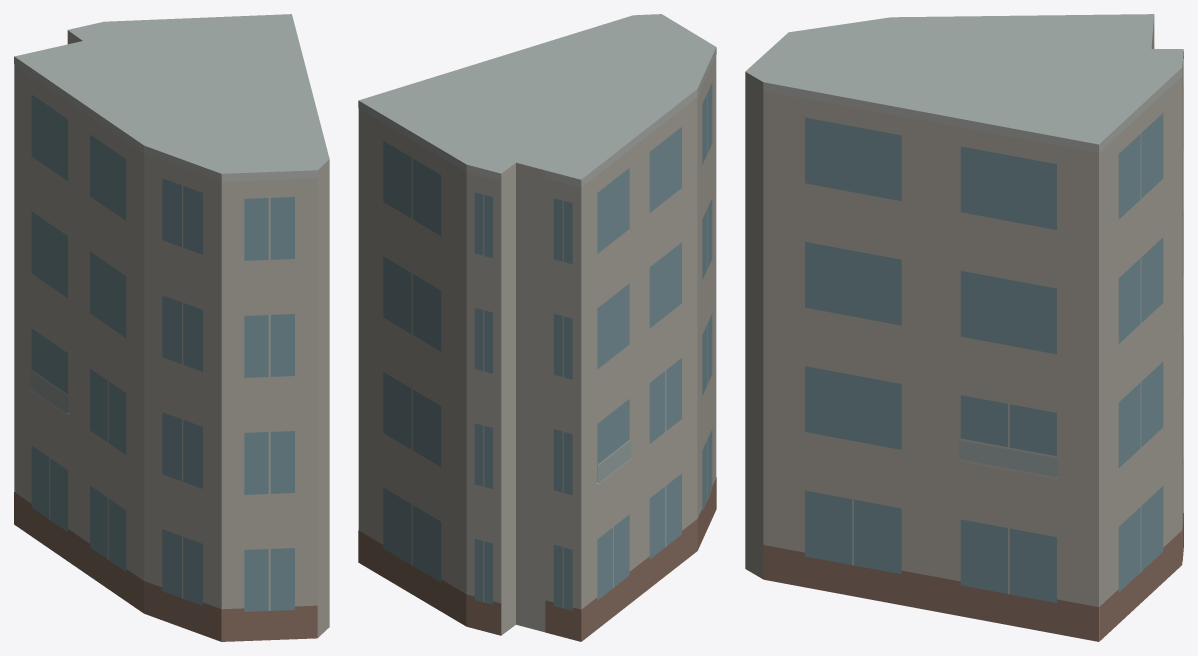
File: survey-upis-32896807.glb
3 views of the same model, side by side, from view 1: azimuth 30°, elevation 25°; view 2: azimuth 150°, elevation 25°; view 3: azimuth 270°, elevation 25° (orthographic). The views are drawn at different scales.
Parts seen in each view (by area): view 1: survey-upis-32896807.tmp; view 2: survey-upis-32896807.tmp; view 3: survey-upis-32896807.tmp.
Part boxes in pixels (x1=…): survey-upis-32896807.tmp: x1=14, y1=14, x2=329, y2=641; survey-upis-32896807.tmp: x1=358, y1=14, x2=716, y2=641; survey-upis-32896807.tmp: x1=745, y1=14, x2=1183, y2=641.
Bounding box in the file's own units: 8.12 × 14.4 × 11.52.
